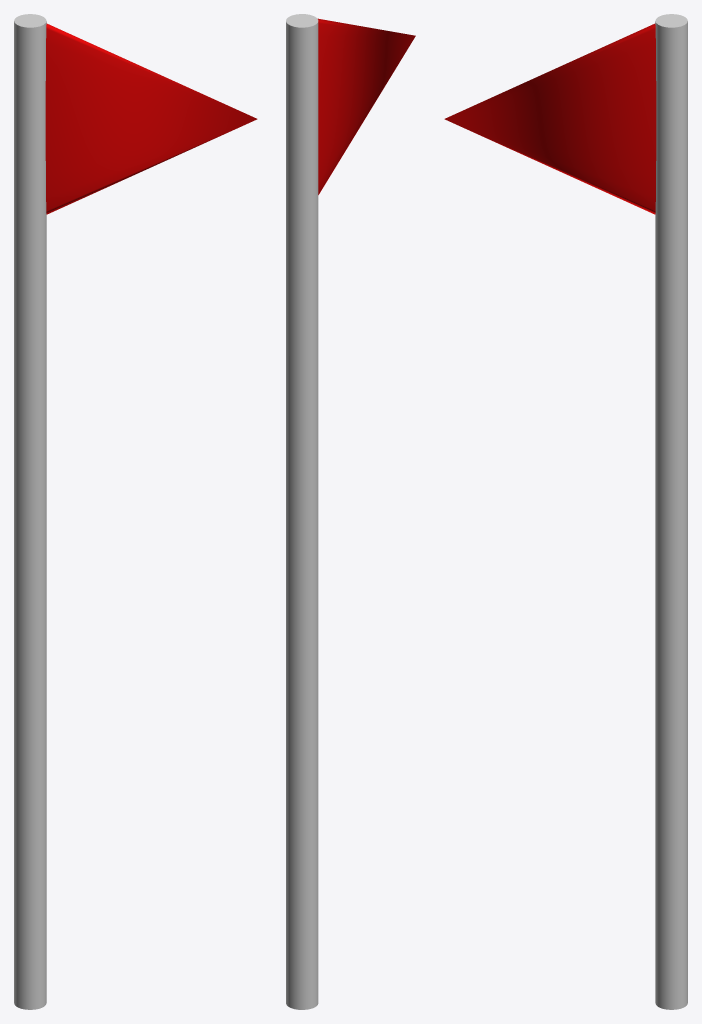
File: Flag.fbx
3 views of the same model, side by side, from view 1: azimuth 90°, elevation 25°; view 2: azimuth 150°, elevation 25°; view 3: azimuth 270°, elevation 25° (orthographic).
Parts seen in each view (by area): view 1: pCylinder1, pCone1; view 2: pCylinder1, pCone1; view 3: pCylinder1, pCone1.
Boxes of the visible parts, x1=… form: pCylinder1: x1=14, y1=14, x2=46, y2=1009; pCone1: x1=45, y1=23, x2=257, y2=214; pCylinder1: x1=286, y1=14, x2=318, y2=1009; pCone1: x1=318, y1=18, x2=415, y2=194; pCylinder1: x1=655, y1=14, x2=687, y2=1009; pCone1: x1=444, y1=23, x2=656, y2=214.
Bounding box in the file's own units: 3 × 100 × 22.5.
